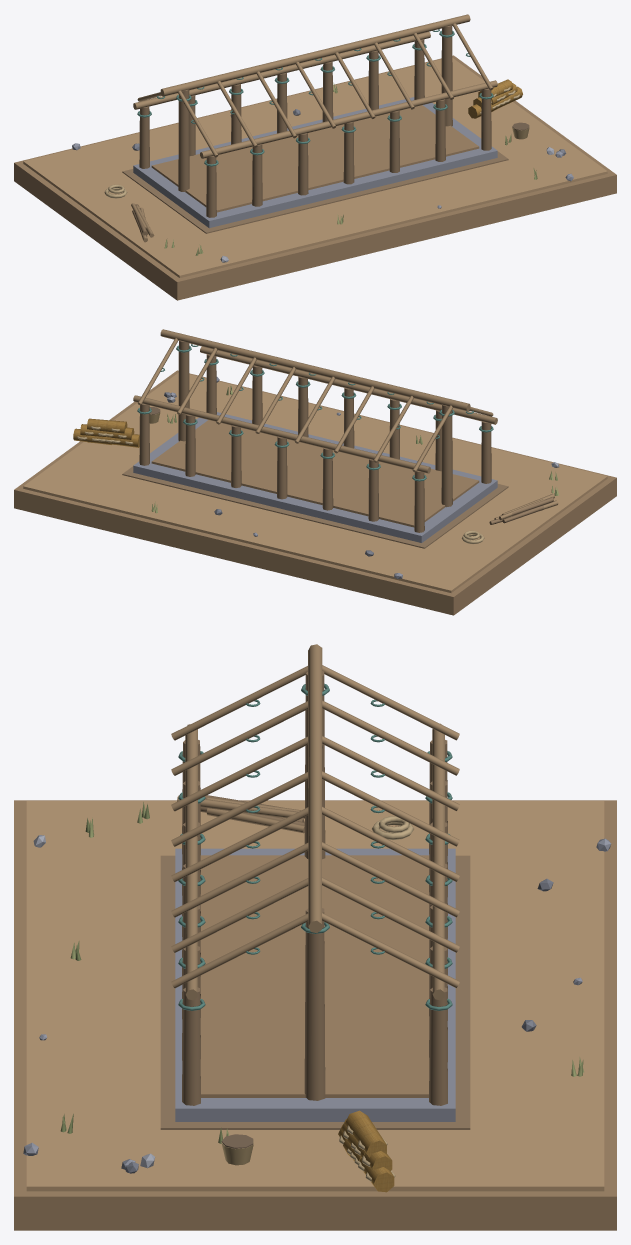
File: num-f-construction.glb
The picture shows the model from 3 angles, top to bottom: view 1: azimuth 30°, elevation 25°; view 2: azimuth 150°, elevation 25°; view 3: azimuth 270°, elevation 25°; orthographic projection. The views are drawn at different scales.
Visible parts, largest first — view 1: era1; view 2: era1; view 3: era1.
Boxes of the visible parts, x1,y1,x2,y2 form: era1: (14, 14, 616, 300); era1: (14, 329, 616, 615); era1: (14, 644, 616, 1230).
Size of the model in its own units: 22.58 by 6.6 by 14.4.
17 materials, 1 textured.
